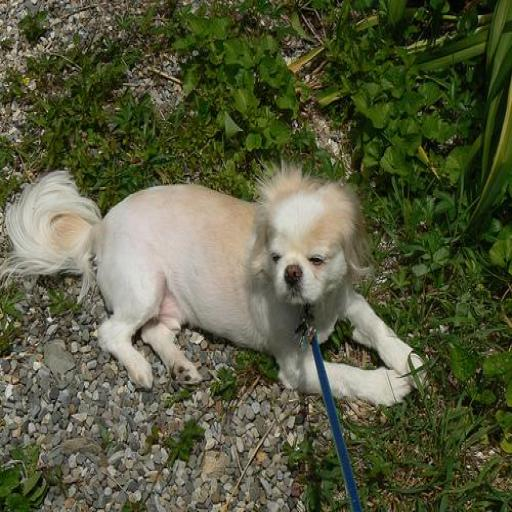dog_face: (248, 174, 373, 301)
